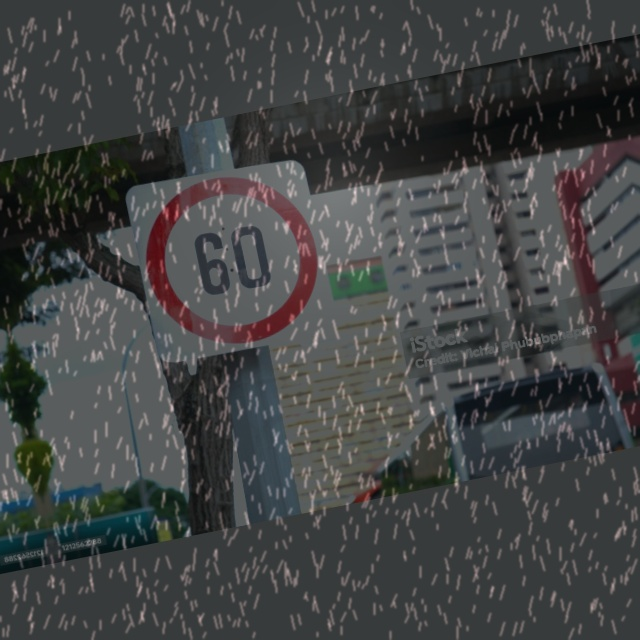Speed_Limit_60: (127, 155, 341, 369)
